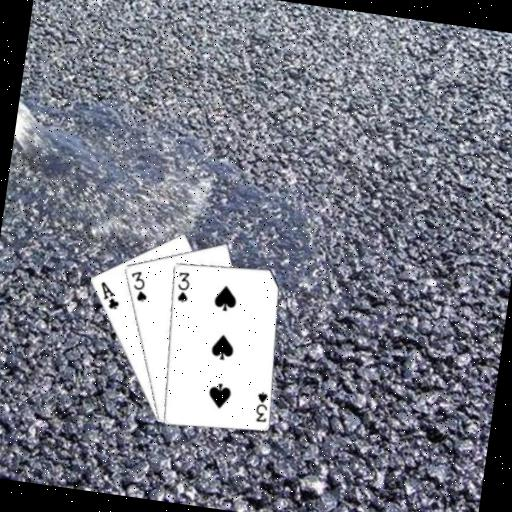3S: (125, 267, 153, 304), (172, 268, 192, 305), (251, 387, 271, 424)
AC: (94, 278, 123, 312)
